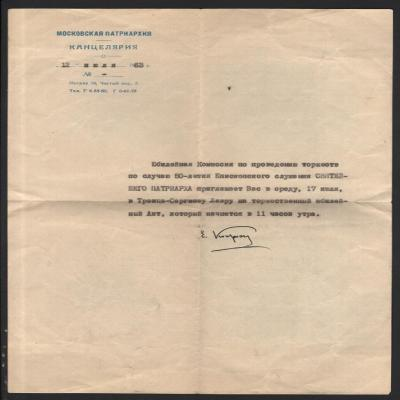document: (8, 7, 391, 394)
